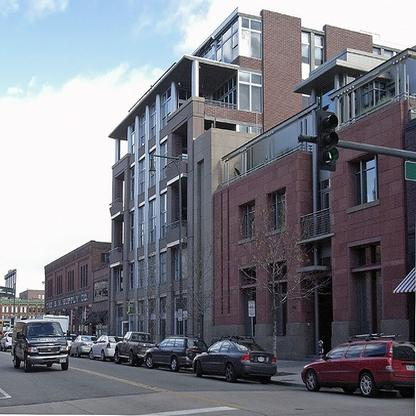car: (301, 338, 416, 399), (196, 336, 278, 384), (11, 319, 70, 371), (146, 335, 210, 373), (116, 328, 157, 368), (90, 333, 125, 362), (70, 331, 101, 359)
